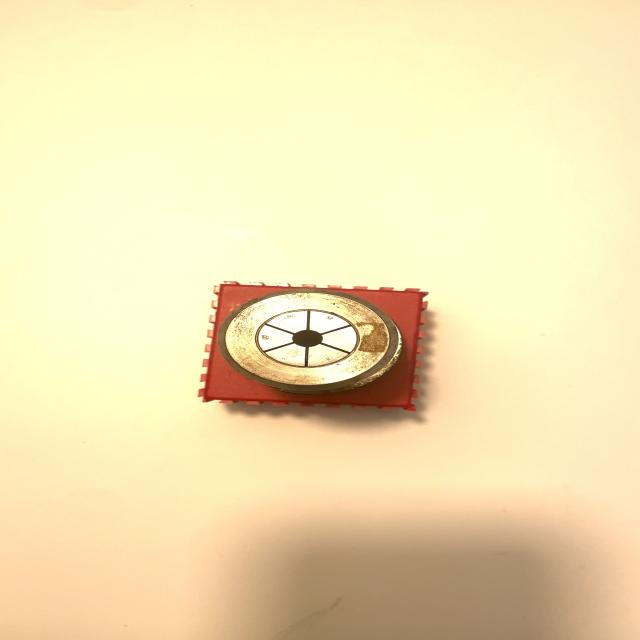Filled_Slot: (216, 289, 401, 394)
